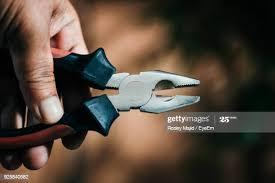pliers: (64, 45, 200, 136)
